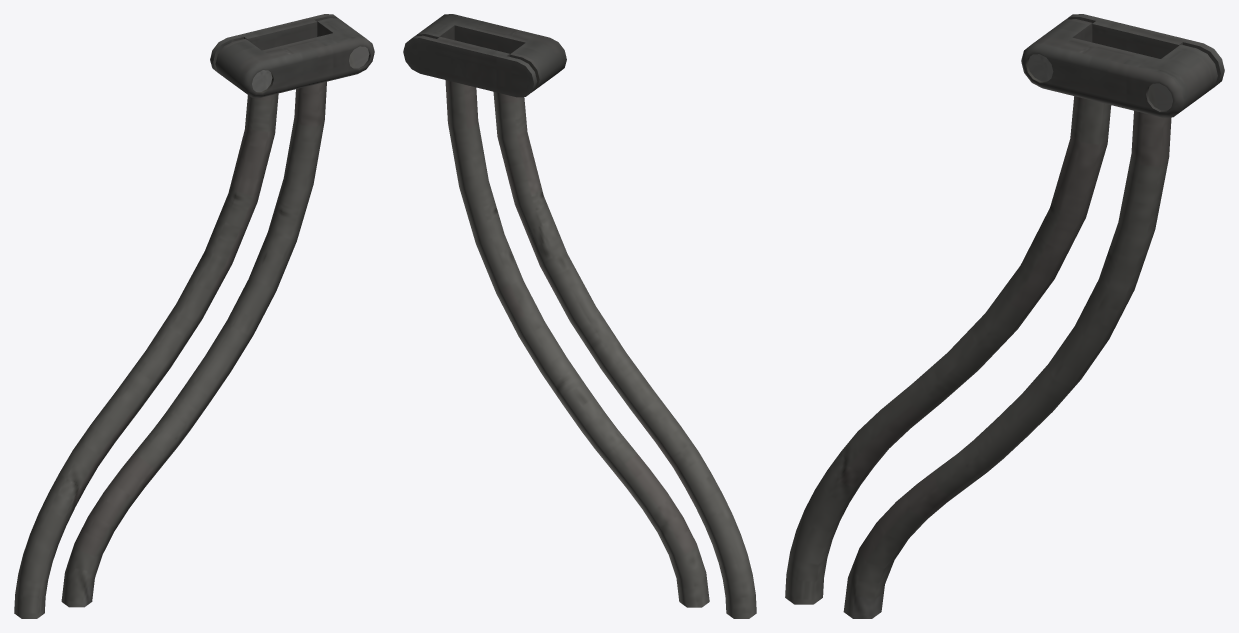
The model's file is cable_double_scurve.gltf.
3 renders of one model, left to right at view 1: azimuth 30°, elevation 25°; view 2: azimuth 150°, elevation 25°; view 3: azimuth 330°, elevation 25°, orthographic. The views are drawn at different scales.
Visible parts, largest first — view 1: cable_double_scurve; view 2: cable_double_scurve; view 3: cable_double_scurve.
Boxes of the visible parts, x1,y1,x2,y2 form: cable_double_scurve: (14,14,374,618); cable_double_scurve: (403,14,756,618); cable_double_scurve: (785,14,1224,618).
Bounding box in the file's own units: 0.1427 × 0.2073 × 0.0259.
Materials: 1 (1 with a texture image).
